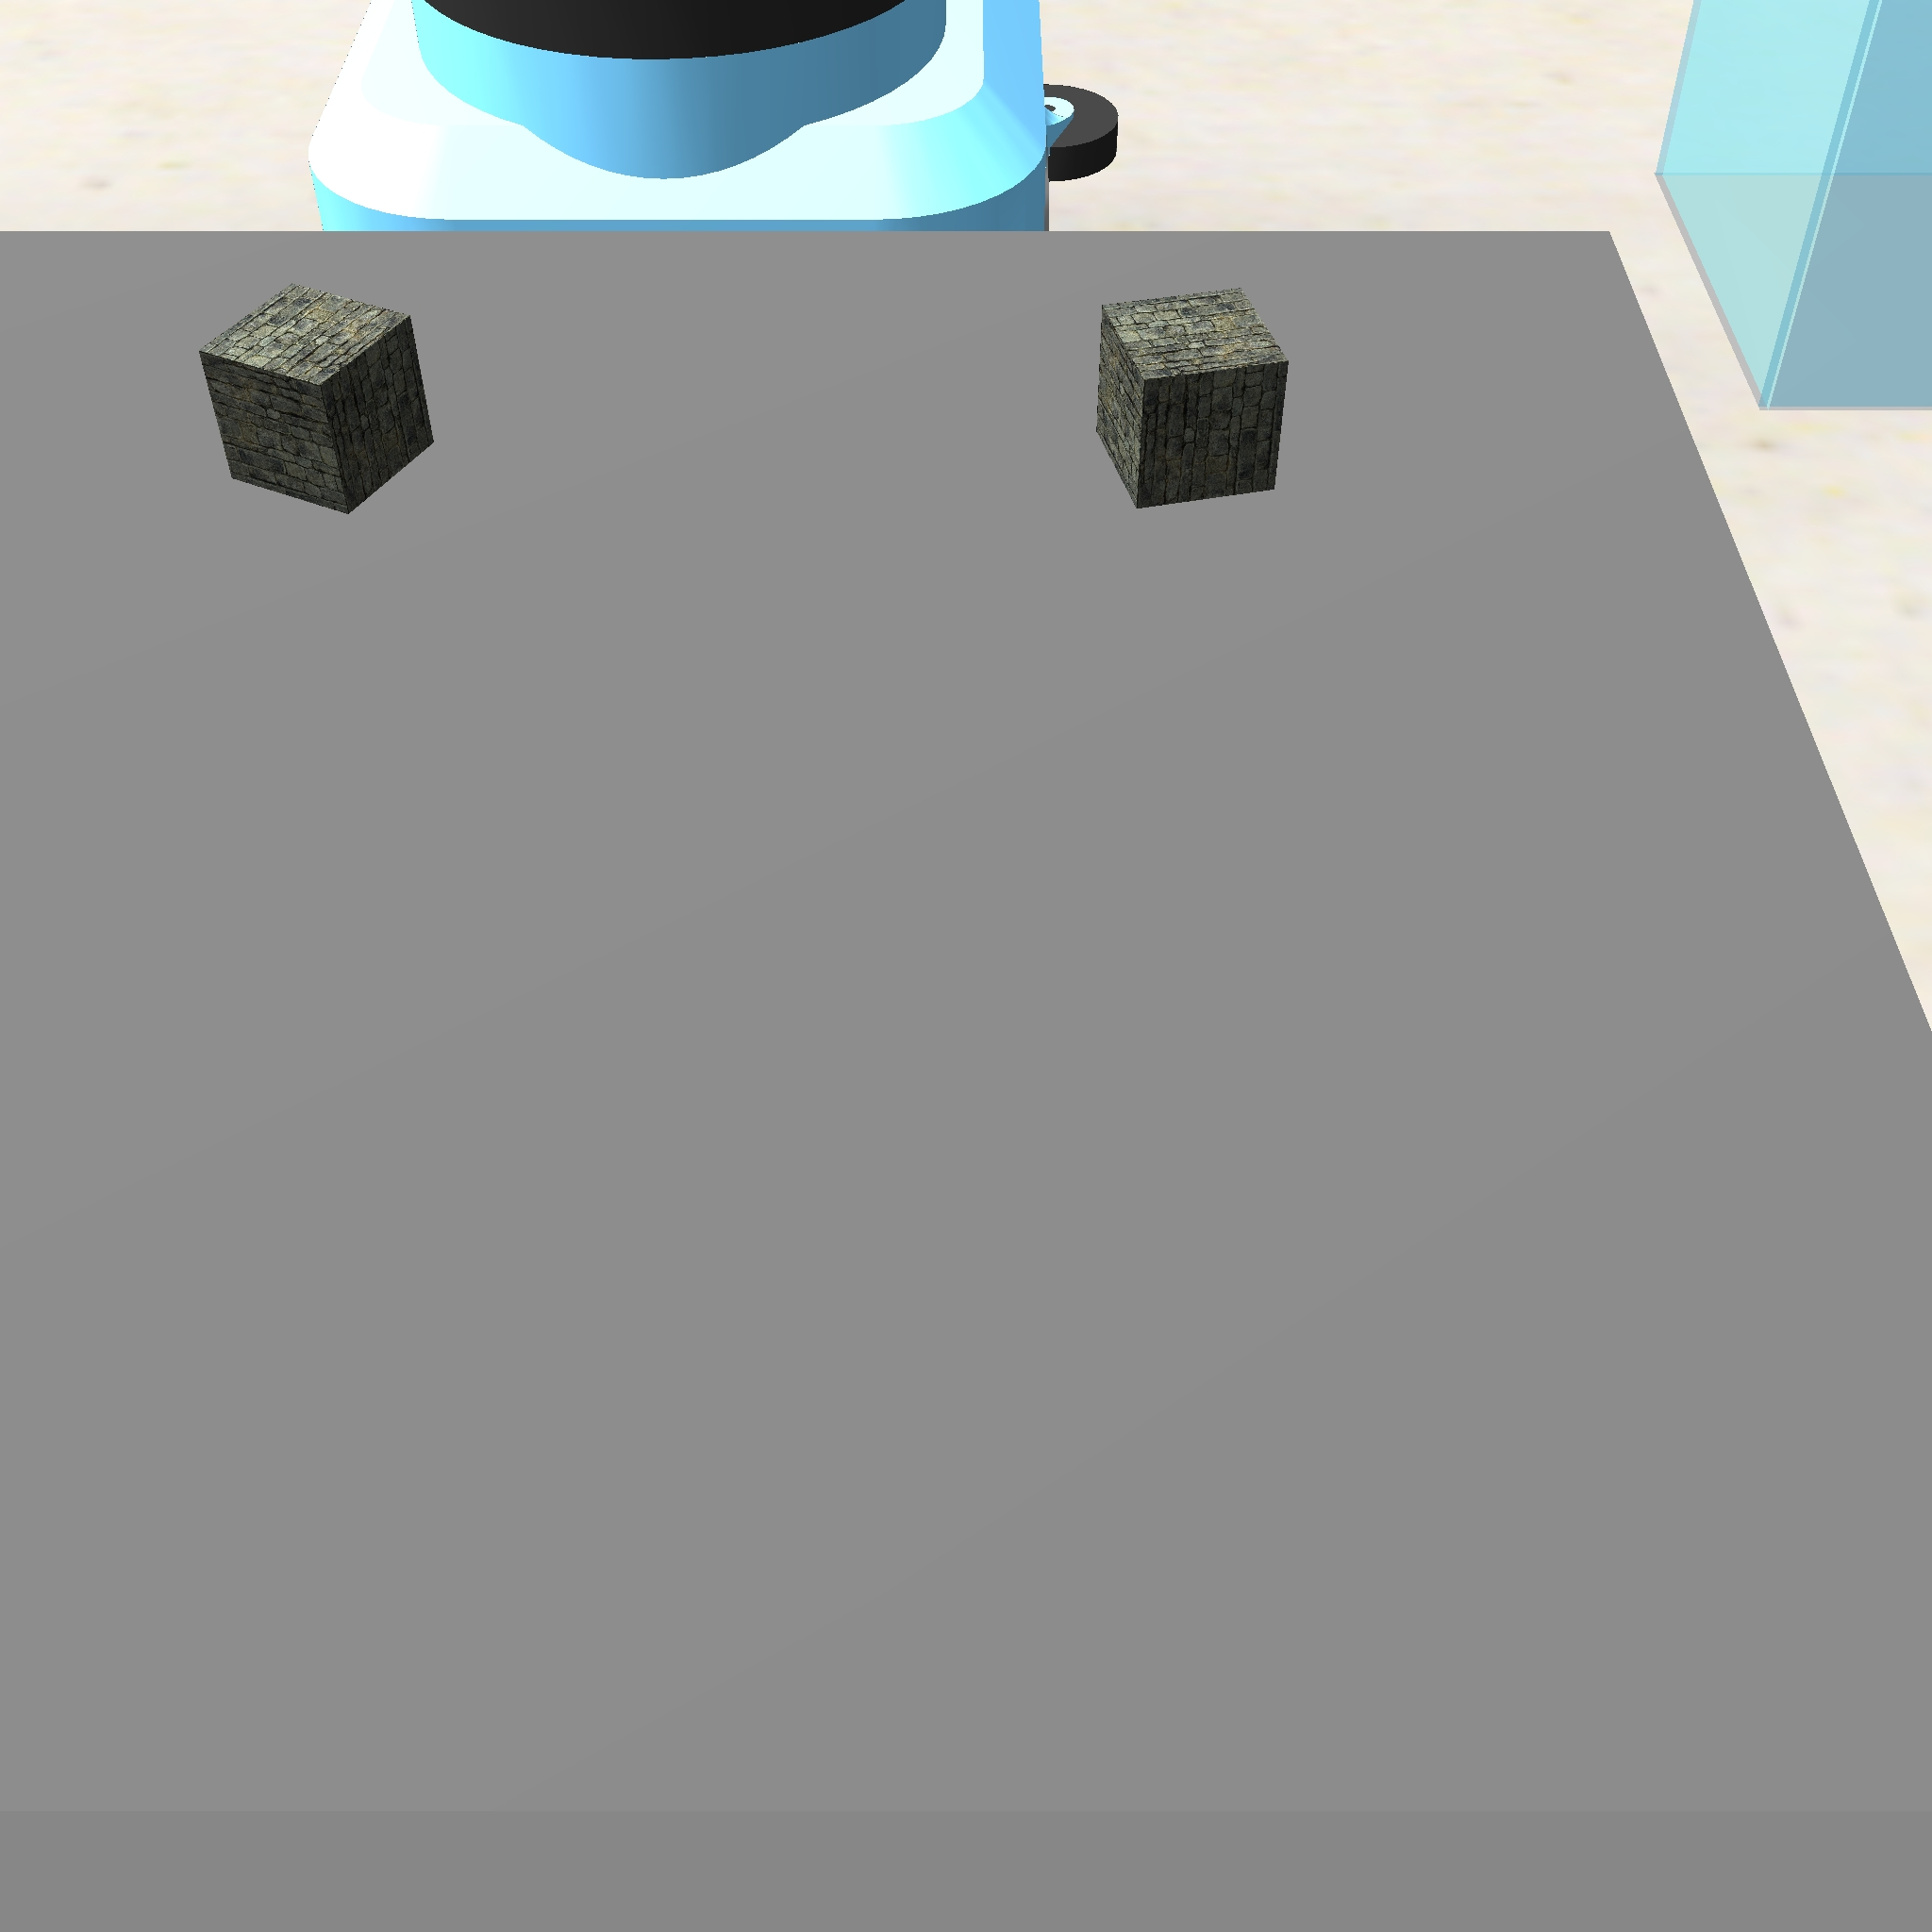cube: (193, 280, 442, 520), (1090, 280, 1299, 517)
